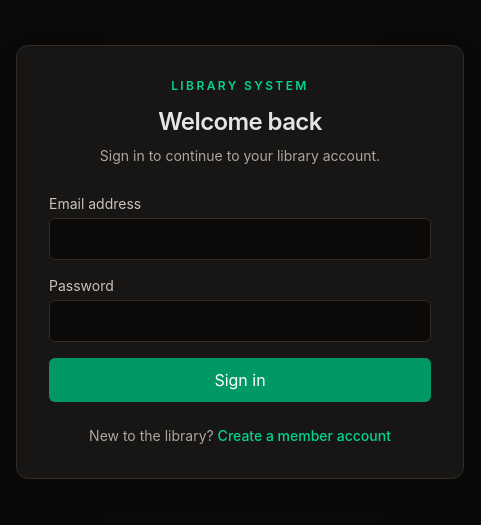
it: login page › keeps an invalid-credentials message visible until credentials are edited
Type "alex@example.com" into the field labelled "Email address" at {"x": 240, "y": 239}, box [49,218,431,260]
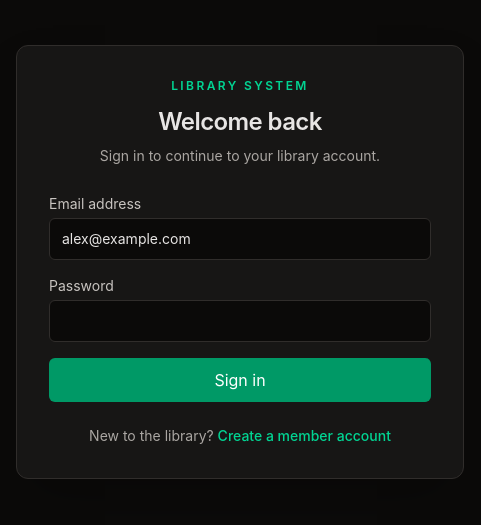
Type "wrong-password" into the password field labelled "Password" at {"x": 240, "y": 321}, box [49,300,431,342]
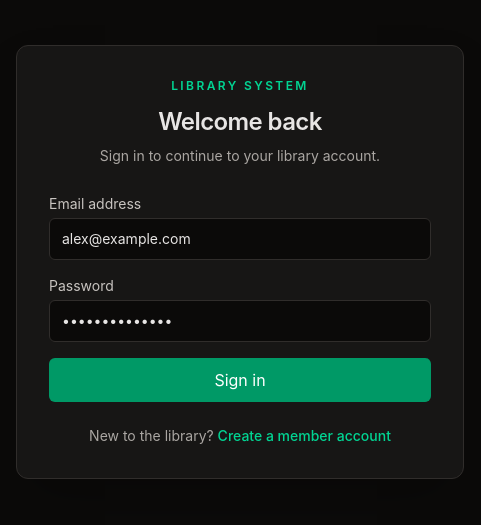
Click the button "Sign in" at {"x": 240, "y": 380}, box [49,358,431,402]
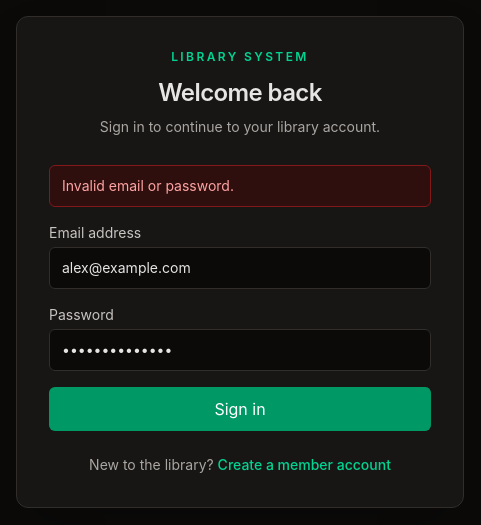
Expected: the button "Sign in" is enabled, [49,387,431,431]
Expected: the message reads "Invalid email or password.", [62,177,234,194]
Type "updated-password" into the password field labelled "Password" at {"x": 240, "y": 350}, box [49,329,431,371]
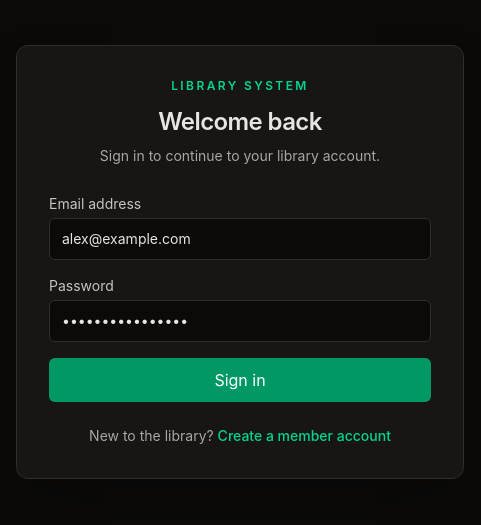
Expected: the message "Invalid email or password." is gone
